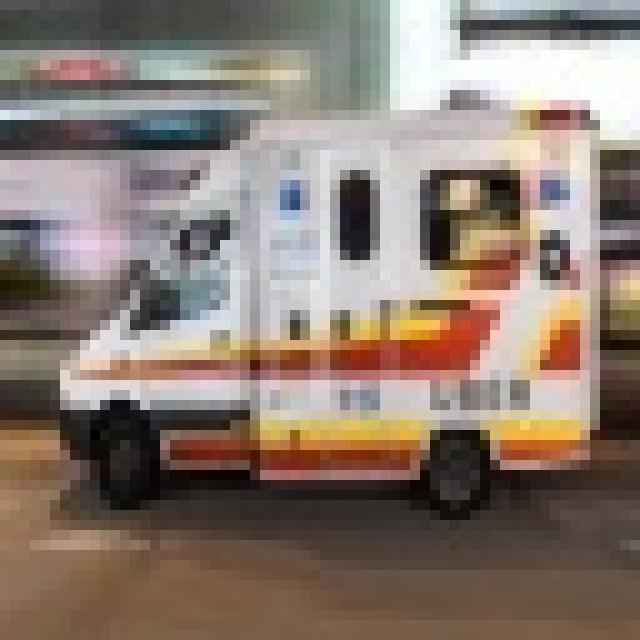Ambulance: (50, 80, 600, 510)
